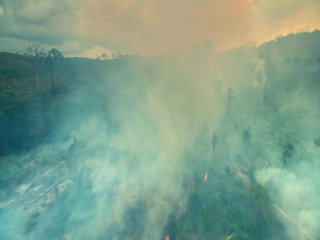fire: (202, 172, 211, 185), (164, 233, 172, 240)
smoke: (11, 8, 302, 217)
